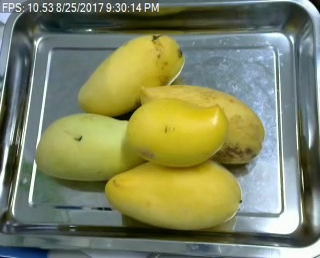Mango: (104, 156, 240, 231), (139, 86, 264, 164), (77, 33, 184, 115), (35, 113, 148, 181), (125, 98, 228, 165)
